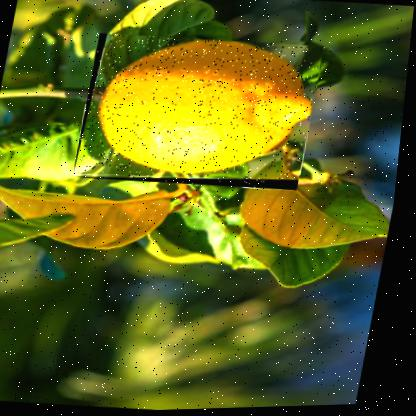lemon: (75, 27, 328, 196)
